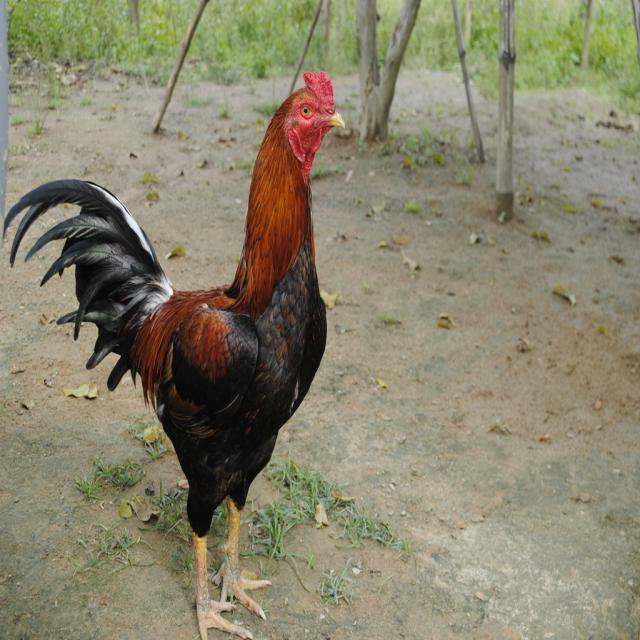Chicken: (3, 70, 345, 640)
